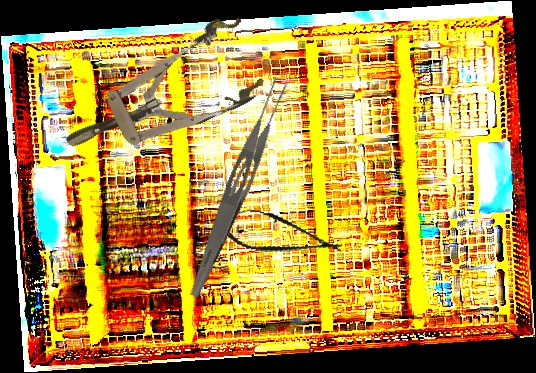Dressing Forceps: (185, 76, 293, 302)
Micro Scissor: (212, 201, 346, 268)
Speculum: (47, 9, 275, 182)
